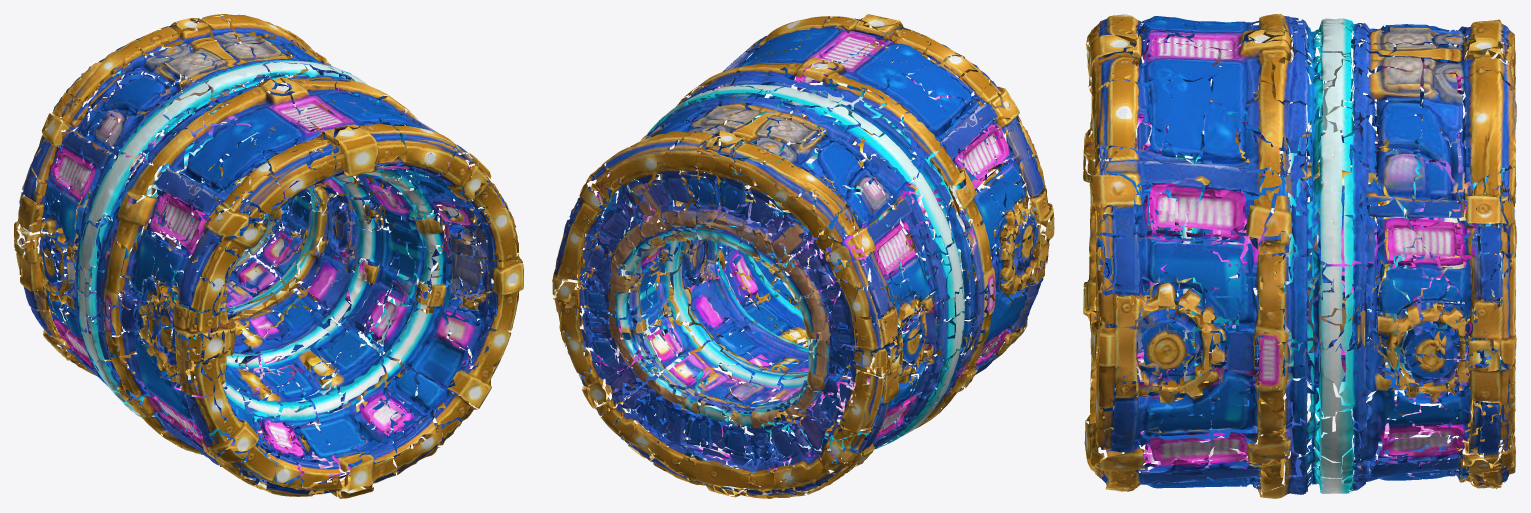
Rendered from BubbleWash_Washer_Tunnel_Interior_Claudia_Balanced.glb.
The picture shows the model from 3 angles, left to right: view 1: azimuth 30°, elevation 25°; view 2: azimuth 150°, elevation 25°; view 3: azimuth 270°, elevation 25°; orthographic projection. The views are drawn at different scales.
Parts seen in each view (by area): view 1: WasherTunnelInteriorLiner; view 2: WasherTunnelInteriorLiner; view 3: WasherTunnelInteriorLiner.
Part boxes in pixels (left/top/right/bottom): WasherTunnelInteriorLiner: left=14, top=14, right=523, bottom=498; WasherTunnelInteriorLiner: left=552, top=14, right=1054, bottom=498; WasherTunnelInteriorLiner: left=1083, top=14, right=1516, bottom=498.
Size of the model in its own units: 1.9 by 1.9 by 1.73.
1 material, 1 textured.
